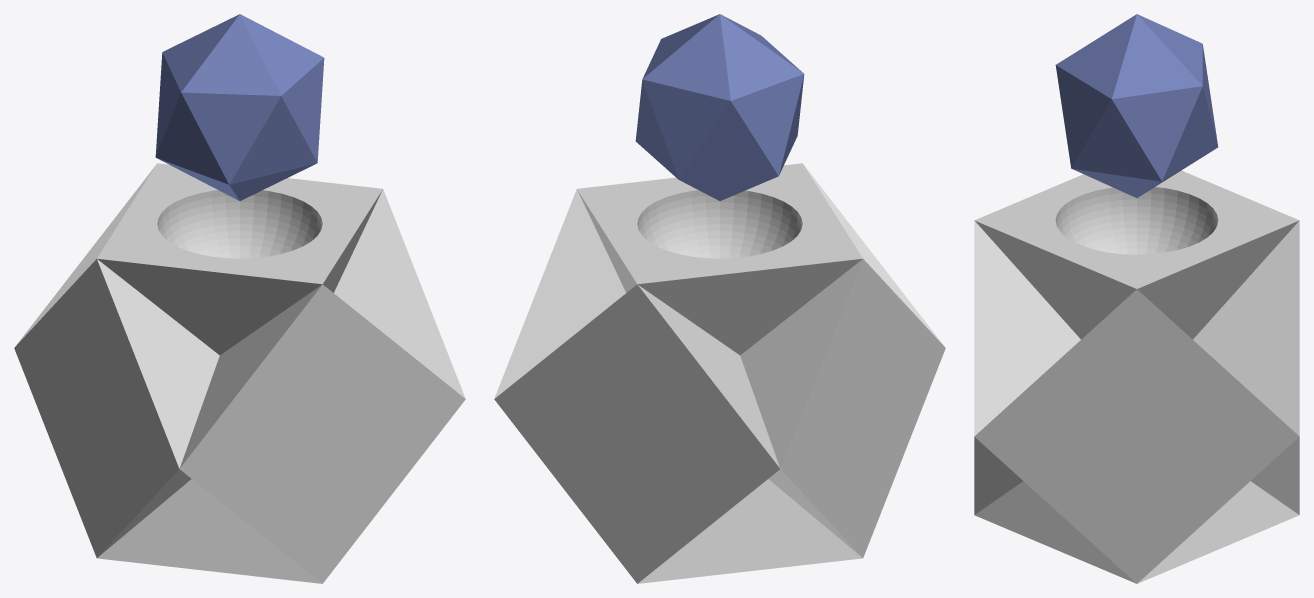
File: pot.glb
The picture shows the model from 3 angles, left to right: view 1: azimuth 30°, elevation 25°; view 2: azimuth 150°, elevation 25°; view 3: azimuth 270°, elevation 25°; orthographic projection.
Visible parts, largest first — view 1: Mesh_Mesh_head_geo.001_lambert2SG.001; view 2: Mesh_Mesh_head_geo.001_lambert2SG.001; view 3: Mesh_Mesh_head_geo.001_lambert2SG.001.
Boxes of the visible parts, x1,y1,x2,y2 form: Mesh_Mesh_head_geo.001_lambert2SG.001: (14, 14, 465, 583); Mesh_Mesh_head_geo.001_lambert2SG.001: (494, 14, 945, 583); Mesh_Mesh_head_geo.001_lambert2SG.001: (974, 14, 1299, 583).
Bounding box in the file's own units: 40 × 68 × 40.
